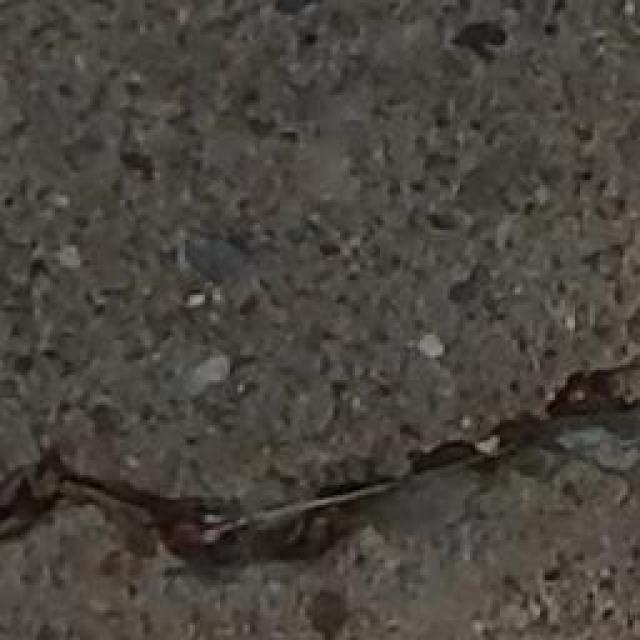concrete-crack: (0, 352, 640, 588)
